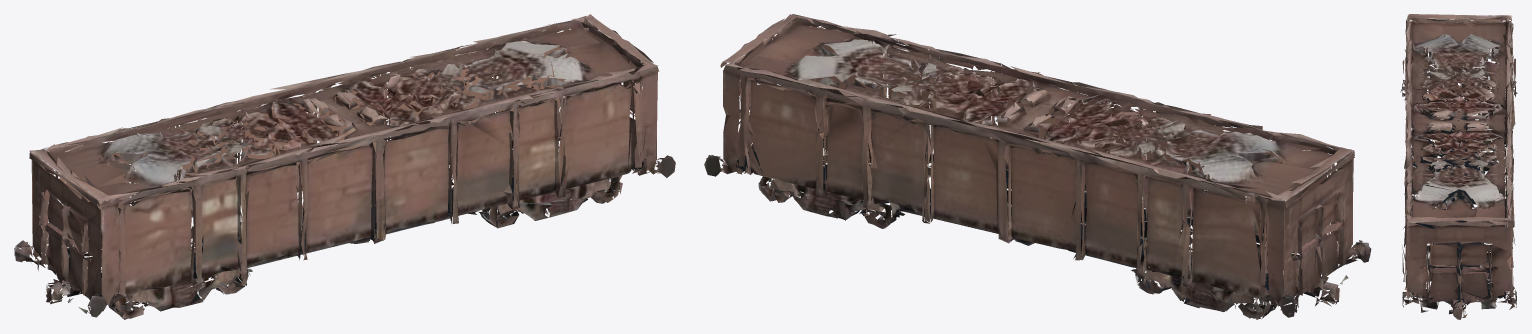
File: container_gondola.glb
The picture shows the model from 3 angles, left to right: view 1: azimuth 30°, elevation 25°; view 2: azimuth 150°, elevation 25°; view 3: azimuth 270°, elevation 25°; orthographic projection. The views are drawn at different scales.
Visible parts, largest first — view 1: container_gondola; view 2: container_gondola; view 3: container_gondola.
Boxes of the visible parts, <box> form: container_gondola: <box>14,14,675,319</box>; container_gondola: <box>704,14,1371,319</box>; container_gondola: <box>1400,14,1517,319</box>.
Size of the model in its own units: 14 by 3.24 by 3.18.
1 material, 1 textured.
